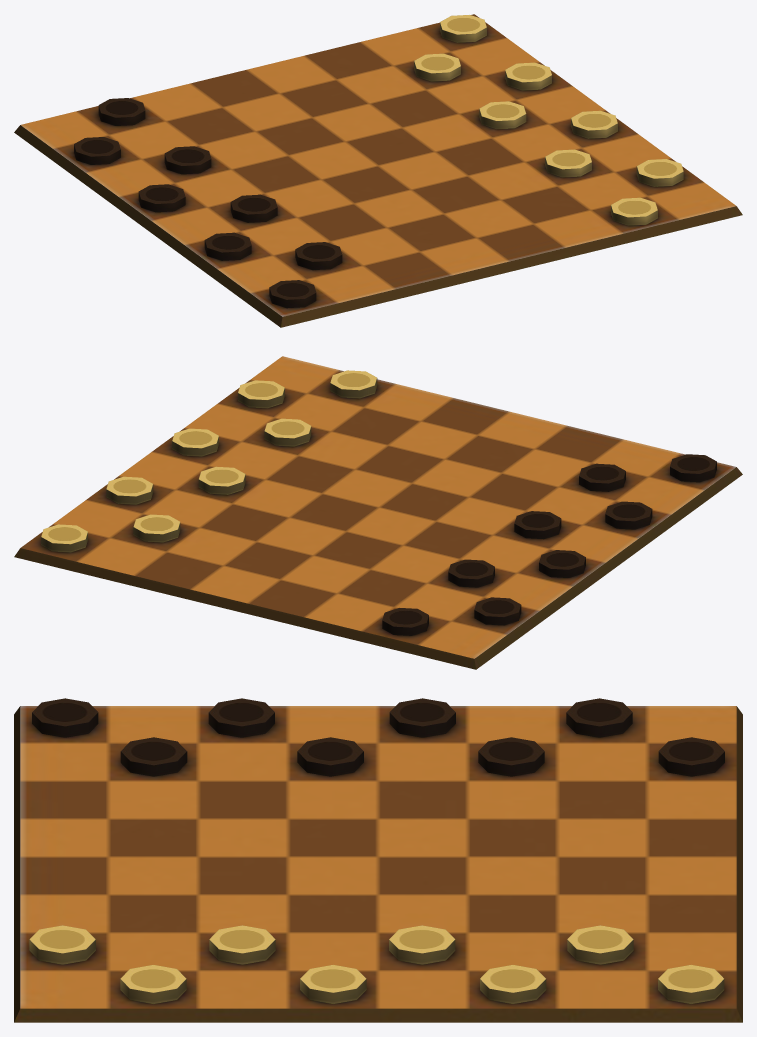
The model's file is Checkers.fbx.
3 views of the same model, one above another, from view 1: azimuth 30°, elevation 25°; view 2: azimuth 150°, elevation 25°; view 3: azimuth 270°, elevation 25° (orthographic). The views are drawn at different scales.
Parts seen in each view (by area): view 1: Checkers; view 2: Checkers; view 3: Checkers.
Part boxes in pixels (x1,y1,x2,y2): Checkers: [14, 14, 742, 327]; Checkers: [14, 356, 742, 669]; Checkers: [14, 698, 742, 1022].
Bounding box in the file's own units: 36 × 1.24 × 36.
